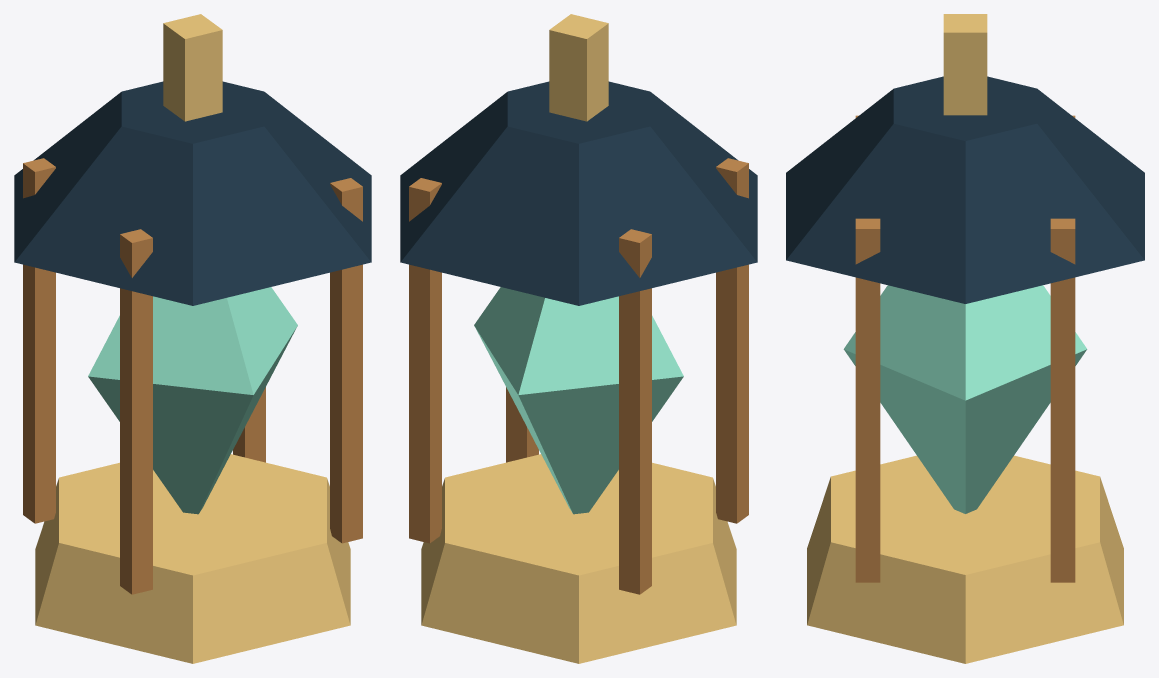
The model's file is Lantern.obj.
3 renders of one model, left to right at view 1: azimuth 30°, elevation 25°; view 2: azimuth 150°, elevation 25°; view 3: azimuth 270°, elevation 25°, orthographic.
Bounding box in the file's own units: 1.7 × 2.55 × 1.47.
